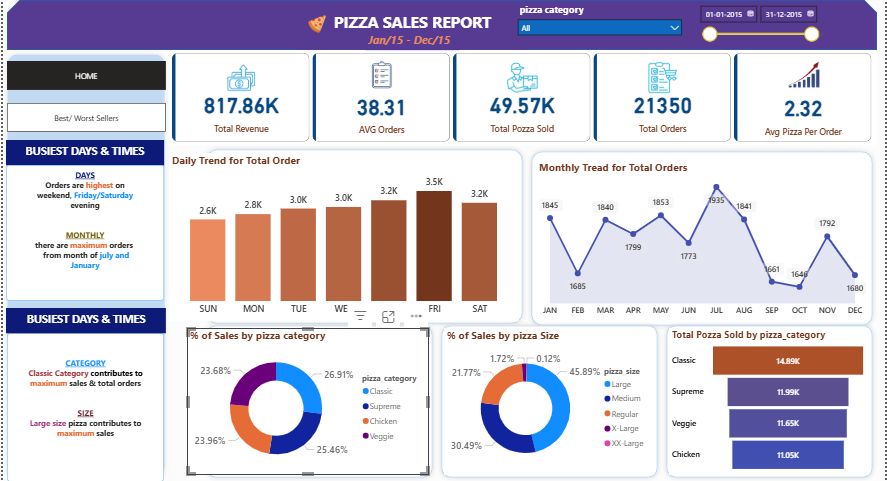

Layout of this report page (visuals, bound fields, positions):
{"tool":"powerbi","page":{"name":"HOME","canvas":[1500,820],"ordinal":0},"visuals":[{"type":"cardVisual","fields":{"Data":["pizza_sales.Total Revenue","pizza_sales.AVG Orders","pizza_sales.Total Pozza Sold","pizza_sales.Total Orders","pizza_sales.Avg Pizza Per Order"]},"box":[282.4,85.1,1204.5,161.6],"z":0},{"type":"shape","box":[6.8,0,1480.1,85.1],"z":1000},{"type":"textbox","box":[501.9,13.6,389.6,71.5],"z":2000},{"type":"textbox","box":[615.9,49.3,159.9,35.7],"z":3000},{"type":"image","box":[496.8,20.4,74.9,40.8],"z":4000},{"type":"shape","box":[338.5,246.7,552.9,311.3],"z":5000},{"type":"columnChart","title":"Daily Trend for Total Order","fields":{"Y":["pizza_sales.Total Orders"],"Category":["pizza_sales.order day"]},"box":[282.4,260.3,595.4,285.8],"z":6000},{"type":"shape","box":[891.5,250.1,595.4,311.3],"z":7000},{"type":"areaChart","title":"Monthly Tread for Total Orders","fields":{"Category":["pizza_sales.order Month"],"Y":["pizza_sales.Total Orders"]},"box":[906.8,272.2,566.5,273.9],"z":8000},{"type":"shape","box":[338.5,546.1,399.8,273.9],"z":9000},{"type":"shape","box":[738.3,546.1,382.8,273.9],"z":10000},{"type":"shape","box":[1121.1,546.1,365.8,273.9],"z":11000},{"type":"donutChart","title":"% of Sales by pizza category","fields":{"Category":["pizza_sales.pizza_category"],"Y":["pizza_sales.Total Revenue"]},"box":[313,558,411.7,250.1],"z":12000},{"type":"donutChart","title":"% of Sales by pizza Size","fields":{"Y":["pizza_sales.Total Revenue"],"Category":["pizza_sales.pizza_size"]},"box":[750.2,558,357.3,250.1],"z":13000},{"type":"funnel","fields":{"Category":["pizza_sales.pizza_category"],"Y":["pizza_sales.Total Pozza Sold"]},"box":[1133,558,340.2,250.1],"z":14000},{"type":"shape","box":[0,85.7,282.9,734.3],"z":15000},{"type":"textbox","box":[4.3,238.6,268.6,42.9],"z":16000},{"type":"textbox","box":[5.1,280.7,268.8,231.4],"z":17000},{"type":"textbox","box":[6.8,566.5,267.1,253.5],"z":18000},{"type":"textbox","box":[5.1,524,272.2,42.5],"z":19000},{"type":"slicer","fields":{"Values":["pizza_sales.pizza_category"]},"box":[865.9,0,299.4,85.1],"z":20000},{"type":"slicer","fields":{"Values":["pizza_sales.order_date"]},"box":[1173.9,0,222.9,85.1],"z":21000},{"type":"pageNavigator","box":[6.8,103.8,270.5,49.3],"z":22000},{"type":"pageNavigator","box":[6.8,175.2,270.5,49.3],"z":23000}]}

Visuals, with their boxes in screenshot pixels (x1, y1, x2, y2), scaled from the page's 1500x820 canvas onto the 887x481 screenshot:
cardVisual - pizza_sales.Total Revenue x pizza_sales.AVG Orders: rect(167, 50, 879, 145)
shape: rect(4, 0, 879, 50)
textbox: rect(297, 8, 527, 50)
textbox: rect(364, 29, 459, 50)
image: rect(294, 12, 338, 36)
shape: rect(200, 145, 527, 327)
"Daily Trend for Total Order" columnChart: rect(167, 153, 519, 320)
shape: rect(527, 147, 879, 329)
"Monthly Tread for Total Orders" areaChart: rect(536, 160, 871, 320)
shape: rect(200, 320, 437, 480)
shape: rect(437, 320, 663, 480)
shape: rect(663, 320, 879, 480)
"% of Sales by pizza category" donutChart: rect(185, 327, 429, 474)
"% of Sales by pizza Size" donutChart: rect(444, 327, 655, 474)
funnel - pizza_sales.pizza_category x pizza_sales.Total Pozza Sold: rect(670, 327, 871, 474)
shape: rect(0, 50, 167, 480)
textbox: rect(3, 140, 161, 165)
textbox: rect(3, 165, 162, 300)
textbox: rect(4, 332, 162, 480)
textbox: rect(3, 307, 164, 332)
slicer - pizza_sales.pizza_category: rect(512, 0, 689, 50)
slicer - pizza_sales.order_date: rect(694, 0, 826, 50)
pageNavigator: rect(4, 61, 164, 90)
pageNavigator: rect(4, 103, 164, 132)
